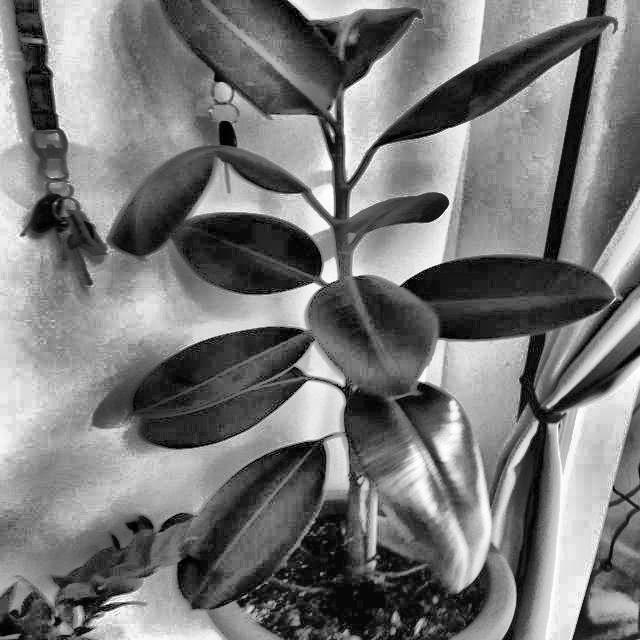plants: (146, 6, 518, 577), (0, 558, 144, 640)
